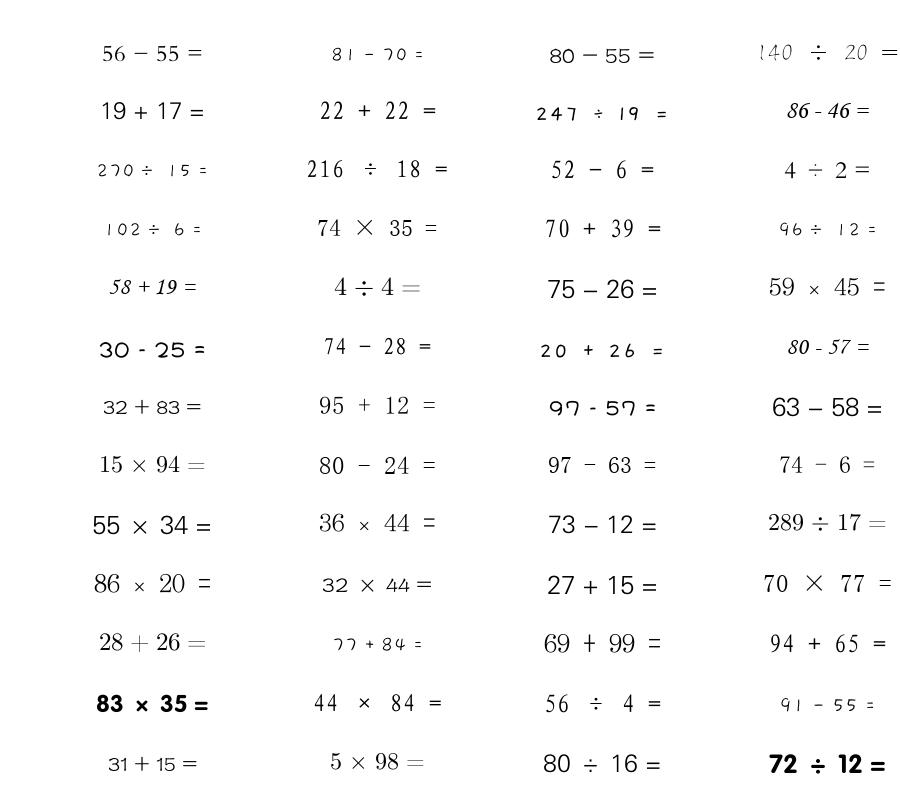MQ: (306, 160, 448, 178), (756, 44, 899, 61), (92, 515, 212, 535), (94, 573, 211, 593), (544, 633, 661, 653), (769, 754, 886, 774), (313, 694, 442, 712), (543, 754, 661, 773), (319, 101, 436, 120), (544, 219, 661, 238), (769, 277, 886, 296), (319, 513, 436, 532), (769, 634, 886, 653), (544, 694, 661, 713), (547, 279, 658, 299), (772, 397, 883, 417), (547, 575, 658, 595), (763, 575, 892, 592), (768, 513, 887, 531), (99, 633, 206, 653), (96, 694, 208, 713), (319, 396, 436, 414), (319, 456, 436, 474), (548, 515, 657, 534), (317, 219, 437, 236), (550, 160, 654, 179), (323, 337, 431, 355), (99, 455, 206, 473), (100, 102, 205, 120), (539, 343, 665, 358), (535, 107, 669, 121), (98, 342, 206, 358), (548, 457, 656, 473), (102, 45, 203, 62), (549, 400, 656, 416), (330, 752, 425, 770), (334, 277, 421, 296), (322, 578, 432, 593), (779, 456, 875, 473), (549, 48, 655, 63), (96, 164, 208, 178), (103, 399, 201, 415), (779, 697, 875, 713), (778, 222, 877, 237), (784, 162, 871, 179), (108, 756, 197, 772), (108, 279, 196, 295), (331, 47, 424, 62), (103, 223, 202, 237), (332, 637, 423, 652), (785, 102, 869, 118), (786, 339, 869, 354)
